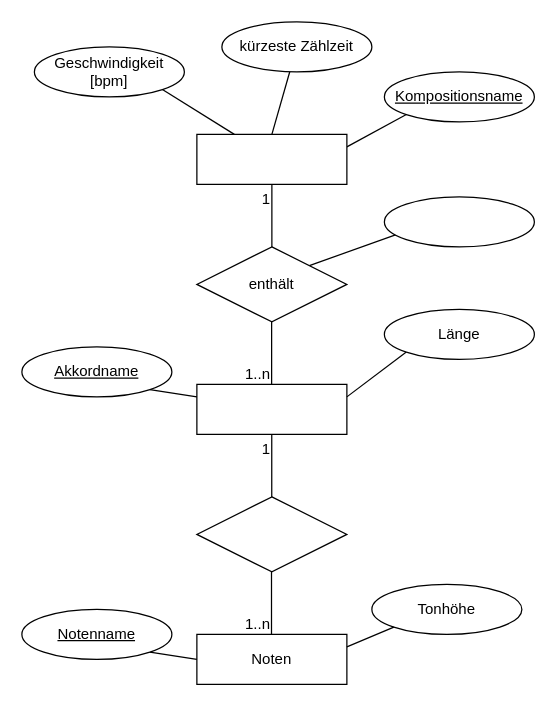
Some shapes in this 556 by 706 pixel diagram are drawn without their labels. Each missing label, with the box of its shape:
Akkord: (196, 383, 347, 434)
besteht aus: (196, 496, 347, 572)
Komposition: (196, 133, 347, 184)
Position: (383, 196, 534, 247)
